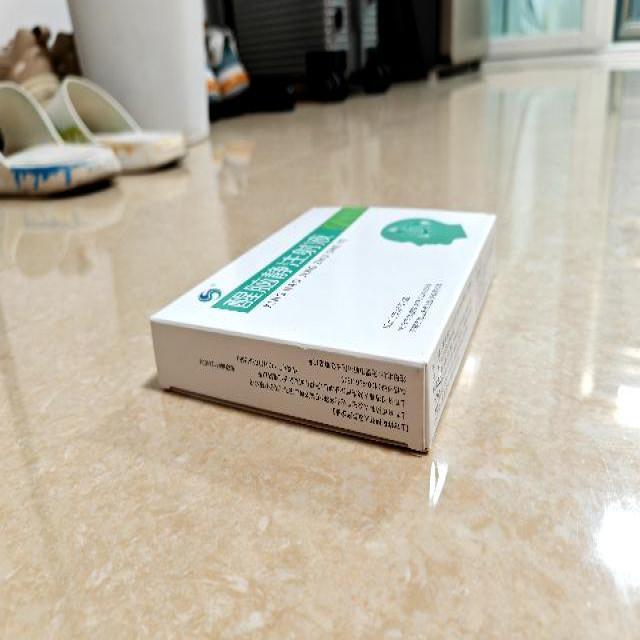box: (148, 203, 498, 453)
